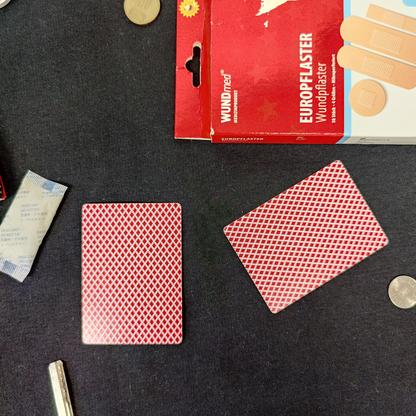card: (220, 153, 393, 321), (69, 196, 190, 353)
